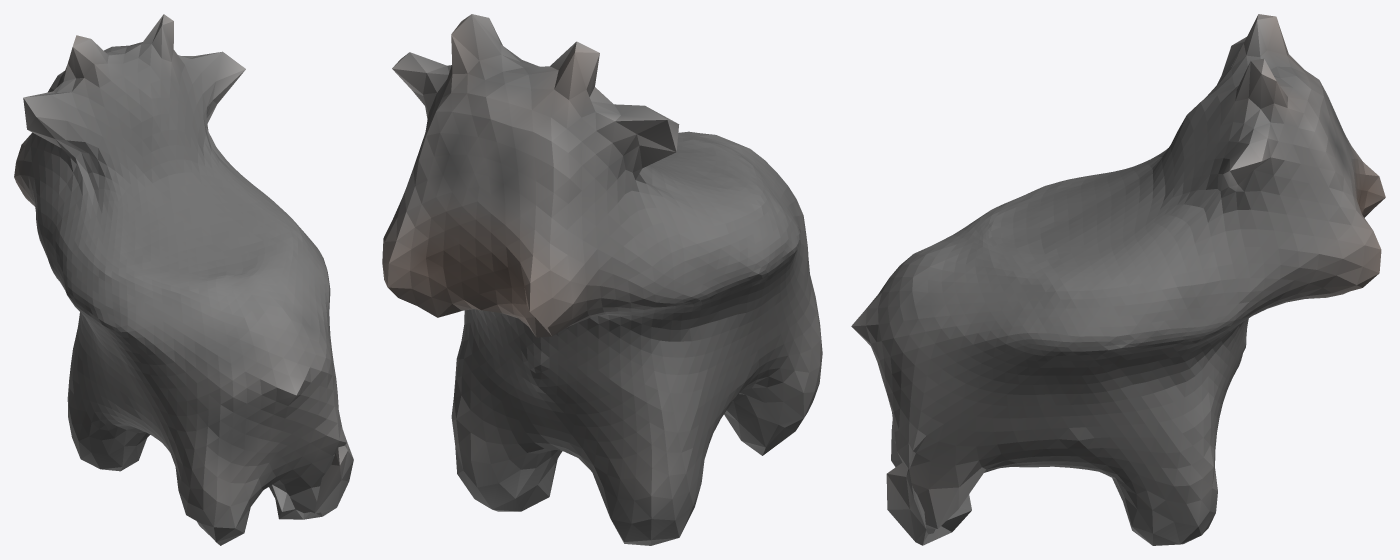
File: colored_mesh_iter_0300.obj
The picture shows the model from 3 angles, left to right: view 1: azimuth 30°, elevation 25°; view 2: azimuth 150°, elevation 25°; view 3: azimuth 270°, elevation 25°; orthographic projection. The views are drawn at different scales.
Size of the model in its own units: 1.21 by 2.02 by 2.
